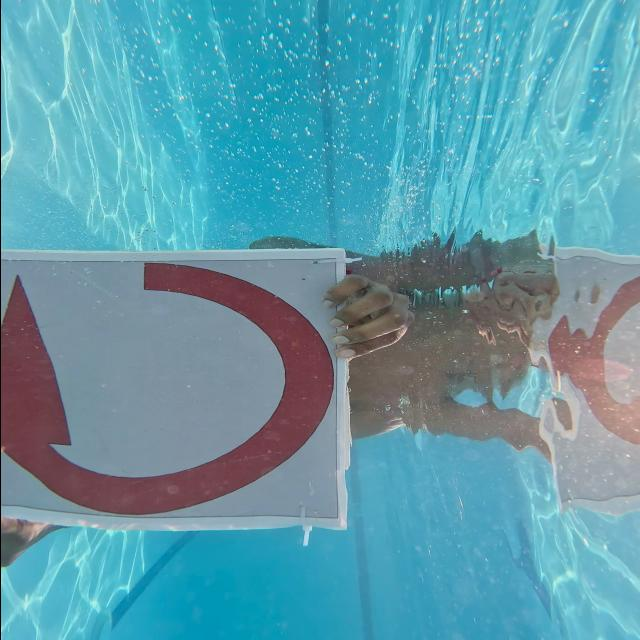red_side: (0, 252, 337, 518)
